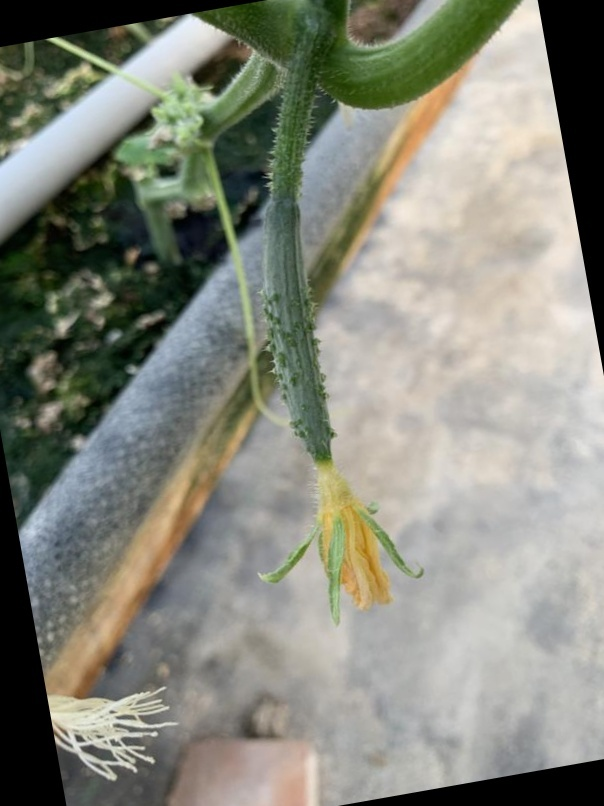bear: (233, 168, 428, 642)
